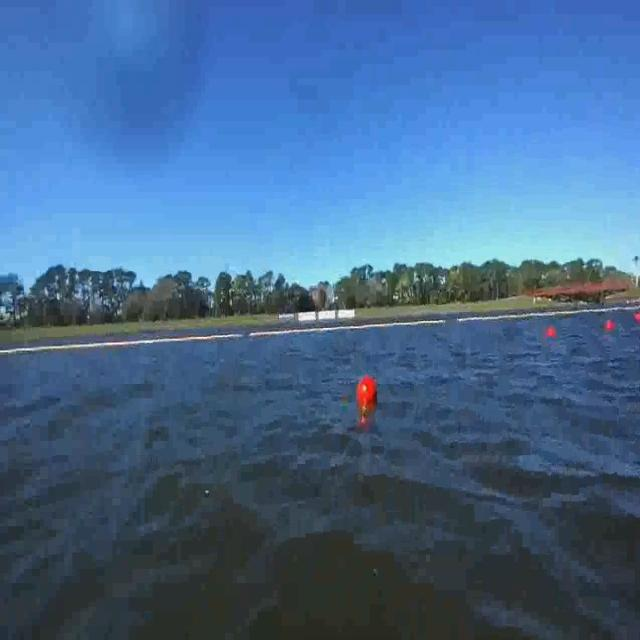red-buoy: (357, 378, 376, 408), (604, 321, 615, 332), (546, 326, 556, 338), (548, 329, 558, 341), (634, 314, 640, 324)
